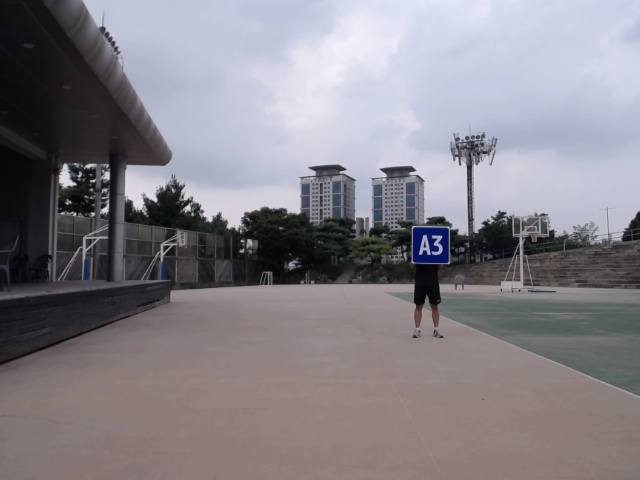delivery_a3: (412, 226, 450, 264)
